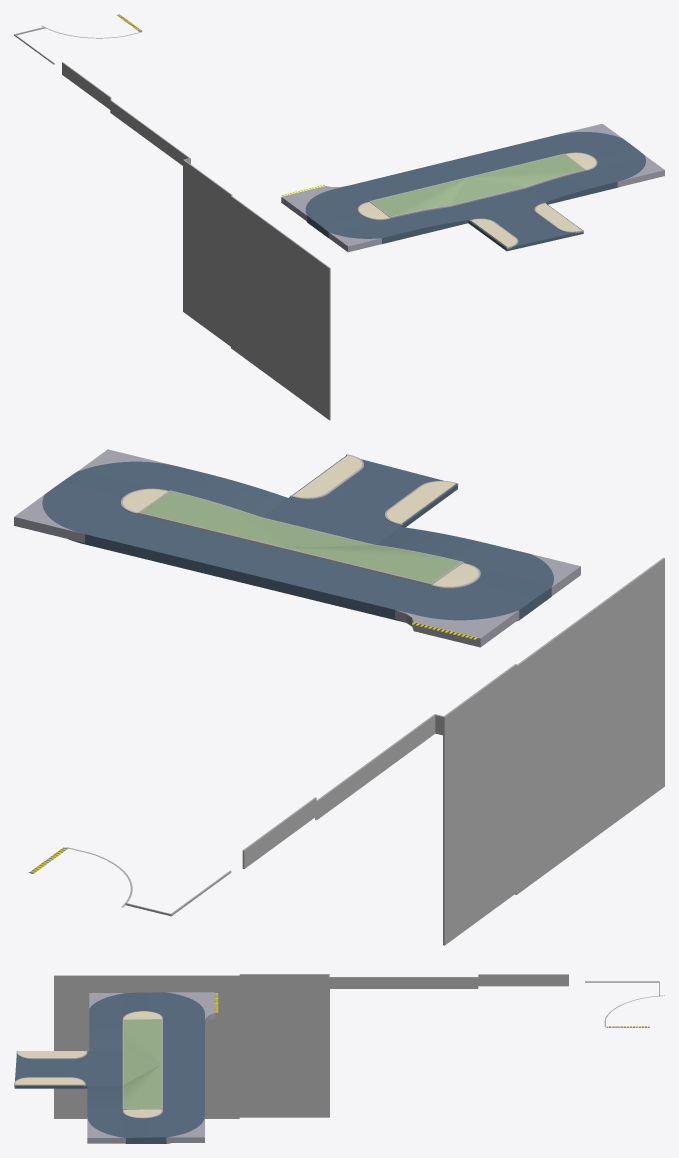
File: lujiazui-30.glb
3 renders of one model, top to bottom at view 1: azimuth 30°, elevation 25°; view 2: azimuth 150°, elevation 25°; view 3: azimuth 270°, elevation 25°, orthographic. The views are drawn at different scales.
Visible parts, largest first — view 1: source_3367_Mat3d66-1303573-2113-6182_part0, source_3375_Mat3d66-1303573-2114-8479_part0, source_3377_Mat3d66-1303573-2114-8479_part0, source_3370_DX_草地_part0, source_3371_Mat3d66-1303573-2088-5713_part0, source_3376_Mat3d66-1303573-2114-8479_part0, source_3374_Mat3d66-1303573-2087-9594_part0, source_3369_Mat3d66-1303573-2114-8479_part0, source_3378_Mat3d66-1303573-2114-8479_part0, source_3368_Mat3d66-1303573-2087-9594_part0; view 2: source_3367_Mat3d66-1303573-2113-6182_part0, source_3375_Mat3d66-1303573-2114-8479_part0, source_3377_Mat3d66-1303573-2114-8479_part0, source_3370_DX_草地_part0, source_3371_Mat3d66-1303573-2088-5713_part0, source_3376_Mat3d66-1303573-2114-8479_part0, source_3374_Mat3d66-1303573-2087-9594_part0, source_3369_Mat3d66-1303573-2114-8479_part0, source_3378_Mat3d66-1303573-2114-8479_part0, source_3368_Mat3d66-1303573-2087-9594_part0; view 3: source_3367_Mat3d66-1303573-2113-6182_part0, source_3377_Mat3d66-1303573-2114-8479_part0, source_3375_Mat3d66-1303573-2114-8479_part0, source_3370_DX_草地_part0, source_3376_Mat3d66-1303573-2114-8479_part0, source_3371_Mat3d66-1303573-2088-5713_part0, source_3378_Mat3d66-1303573-2114-8479_part0, source_3374_Mat3d66-1303573-2087-9594_part0, source_3368_Mat3d66-1303573-2087-9594_part0, source_3369_Mat3d66-1303573-2114-8479_part0.
Boxes of the visible parts, x1,y1,x2,y2 form: source_3367_Mat3d66-1303573-2113-6182_part0: (305,132,645,251); source_3375_Mat3d66-1303573-2114-8479_part0: (231,196,330,420); source_3377_Mat3d66-1303573-2114-8479_part0: (183,159,232,346); source_3370_DX_草地_part0: (371,154,583,216); source_3371_Mat3d66-1303573-2088-5713_part0: (281,123,664,252); source_3376_Mat3d66-1303573-2114-8479_part0: (110,100,190,165); source_3374_Mat3d66-1303573-2087-9594_part0: (471,203,581,246); source_3369_Mat3d66-1303573-2114-8479_part0: (369,153,585,218); source_3378_Mat3d66-1303573-2114-8479_part0: (62,62,111,109); source_3368_Mat3d66-1303573-2087-9594_part0: (359,153,595,218); source_3367_Mat3d66-1303573-2113-6182_part0: (42,456,553,622); source_3375_Mat3d66-1303573-2114-8479_part0: (515,557,664,894); source_3377_Mat3d66-1303573-2114-8479_part0: (443,664,516,945); source_3370_DX_草地_part0: (141,491,460,582); source_3371_Mat3d66-1303573-2088-5713_part0: (14,449,580,647); source_3376_Mat3d66-1303573-2114-8479_part0: (315,714,443,820); source_3374_Mat3d66-1303573-2087-9594_part0: (293,455,455,523); source_3369_Mat3d66-1303573-2114-8479_part0: (137,490,463,585); source_3378_Mat3d66-1303573-2114-8479_part0: (242,797,316,868); source_3368_Mat3d66-1303573-2087-9594_part0: (122,489,478,586); source_3367_Mat3d66-1303573-2113-6182_part0: (14,992,204,1143); source_3377_Mat3d66-1303573-2114-8479_part0: (239,974,329,1117); source_3375_Mat3d66-1303573-2114-8479_part0: (54,975,239,1118); source_3370_DX_草地_part0: (124,1019,161,1108); source_3376_Mat3d66-1303573-2114-8479_part0: (328,974,478,988); source_3371_Mat3d66-1303573-2088-5713_part0: (87,992,214,1143); source_3378_Mat3d66-1303573-2114-8479_part0: (478,974,568,986); source_3374_Mat3d66-1303573-2087-9594_part0: (15,1051,86,1085); source_3368_Mat3d66-1303573-2087-9594_part0: (124,1011,161,1117); source_3369_Mat3d66-1303573-2114-8479_part0: (122,1019,162,1109).
Bounding box in the file's own units: 60.77 × 25.69 × 103.
